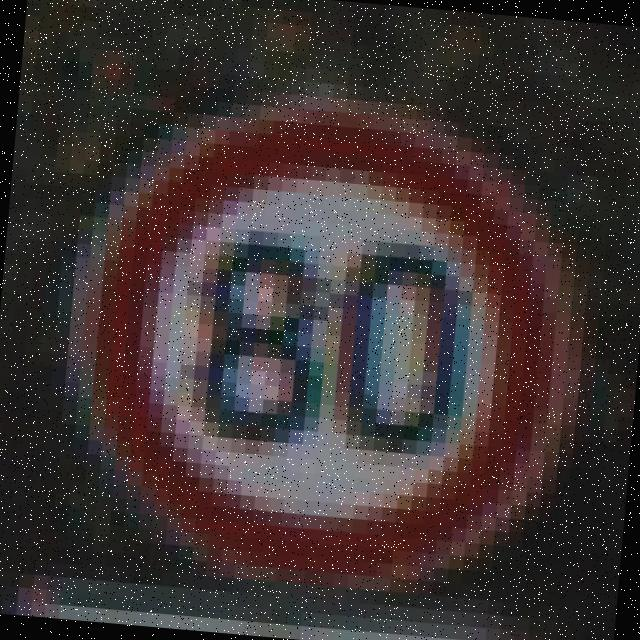Ograniczenie predkosci do 80: (67, 93, 582, 607)
